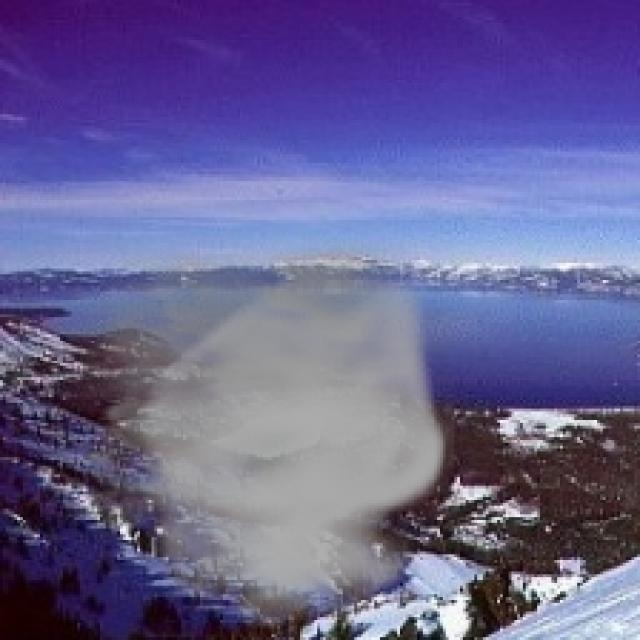smoke: (29, 228, 454, 628)
